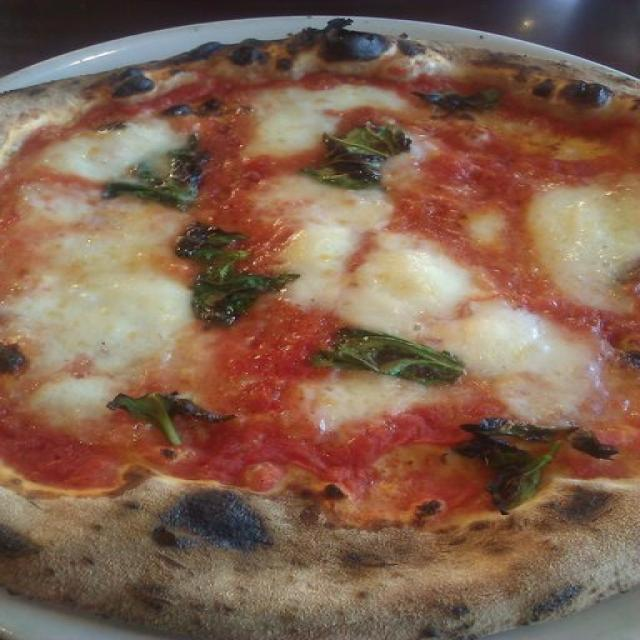Basil: (452, 416, 617, 521), (296, 312, 482, 394), (165, 225, 304, 328), (303, 110, 422, 193), (91, 133, 215, 212), (95, 383, 242, 448), (411, 79, 516, 117)
Cheese: (290, 192, 449, 320), (60, 240, 160, 341), (540, 196, 640, 296), (476, 320, 588, 388), (54, 361, 114, 417), (331, 390, 391, 413)
Pizza: (0, 28, 640, 640)
